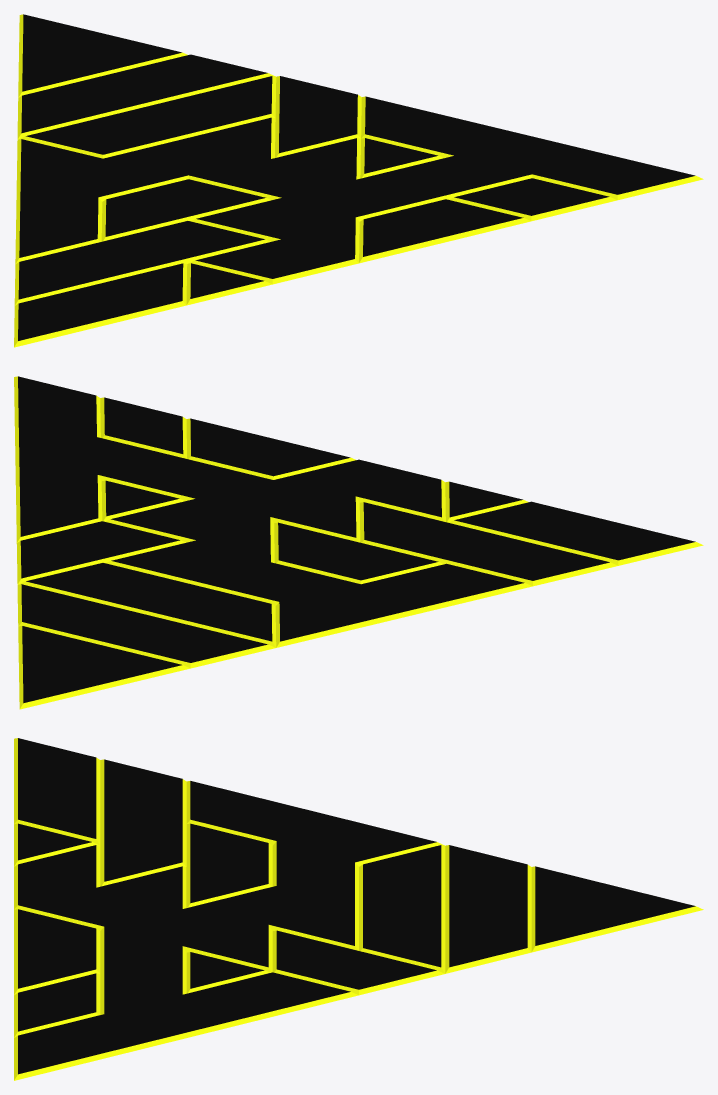
File: Cyberpunk Triangle Tile.006.glb
The picture shows the model from 3 angles, top to bottom: view 1: azimuth 30°, elevation 25°; view 2: azimuth 150°, elevation 25°; view 3: azimuth 270°, elevation 25°; orthographic projection.
Visible parts, largest first — view 1: Cyberpunk Triangle Tile.006; view 2: Cyberpunk Triangle Tile.006; view 3: Cyberpunk Triangle Tile.006.
Boxes of the visible parts, left/top/right/bottom form: Cyberpunk Triangle Tile.006: left=14, top=14, right=703, bottom=347; Cyberpunk Triangle Tile.006: left=14, top=376, right=703, bottom=709; Cyberpunk Triangle Tile.006: left=14, top=738, right=703, bottom=1080.
Size of the model in its own units: 1.02 by 0.005 by 0.8664.
1 material, 1 textured.
